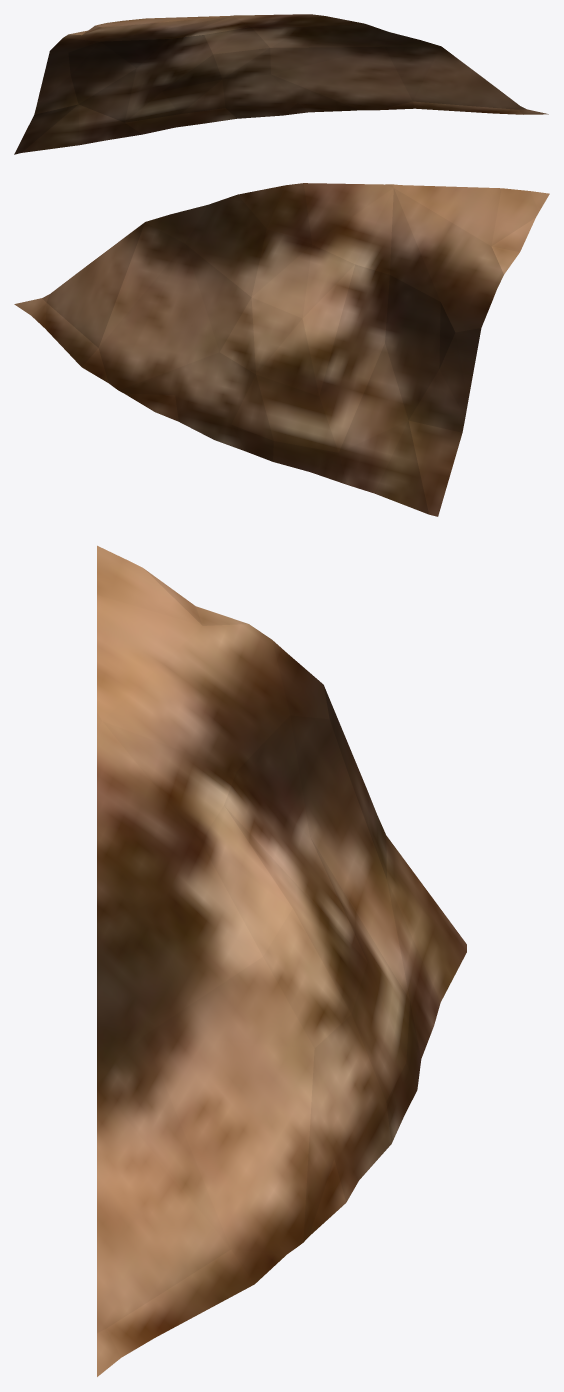
The picture shows the model from 3 angles, top to bottom: view 1: azimuth 30°, elevation 25°; view 2: azimuth 150°, elevation 25°; view 3: azimuth 270°, elevation 25°; orthographic projection. The views are drawn at different scales.
Bounding box in the file's own units: 0.1642 × 0.0707 × 0.0594.
1 material, 1 textured.
